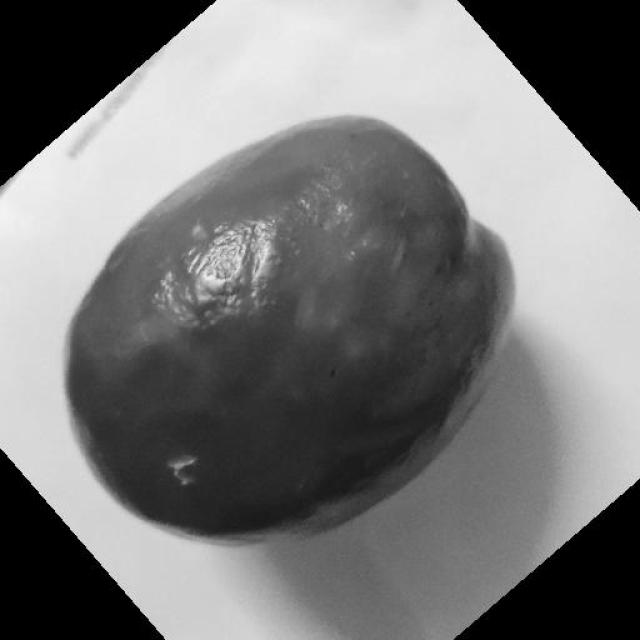Stale_tomato: (114, 117, 484, 527)
